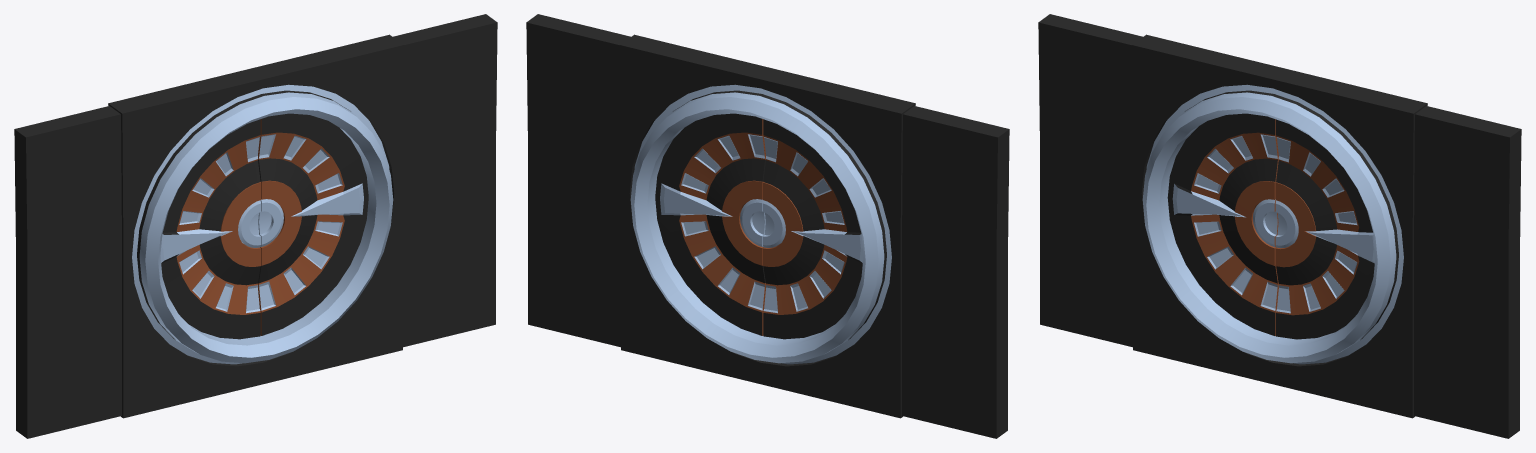
Rendered from door_sliding.fbx.
The picture shows the model from 3 angles, left to right: view 1: azimuth 30°, elevation 25°; view 2: azimuth 150°, elevation 25°; view 3: azimuth 330°, elevation 25°; orthographic projection.
Parts seen in each view (by area): view 1: Circle.002, Circle.001, Circle; view 2: Circle.002, Circle.001, Circle; view 3: Circle.002, Circle, Circle.001.
Part boxes in pixels (left/top/right/bottom): Circle.002: left=14, top=14, right=497, bottom=438; Circle.001: left=258, top=113, right=368, bottom=335; Circle: left=160, top=119, right=261, bottom=339; Circle.002: left=526, top=14, right=1009, bottom=438; Circle.001: left=655, top=113, right=765, bottom=335; Circle: left=762, top=119, right=863, bottom=339; Circle.002: left=1038, top=14, right=1521, bottom=438; Circle: left=1167, top=113, right=1278, bottom=335; Circle.001: left=1275, top=119, right=1375, bottom=339.
Bounding box in the file's own units: 437 × 270 × 57.51.
